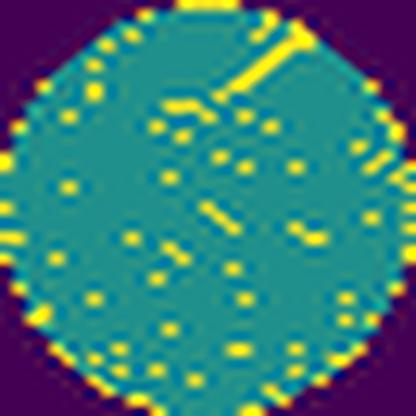Scratch: (208, 18, 319, 108)
